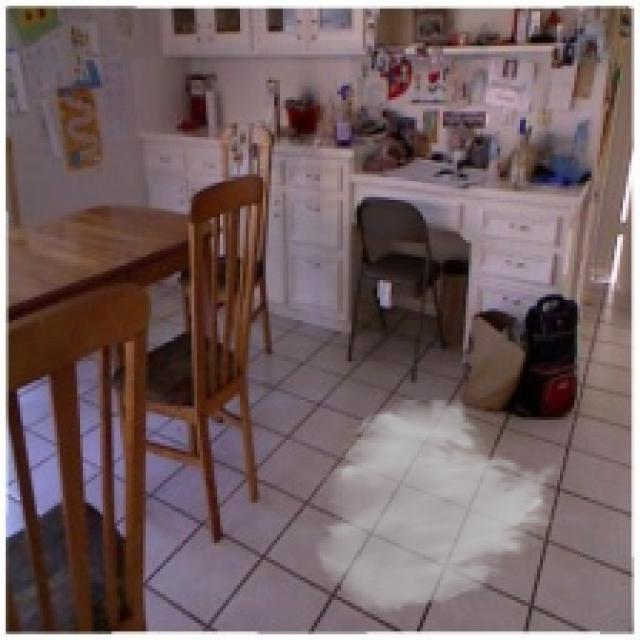Smoke: (312, 394, 562, 614)
